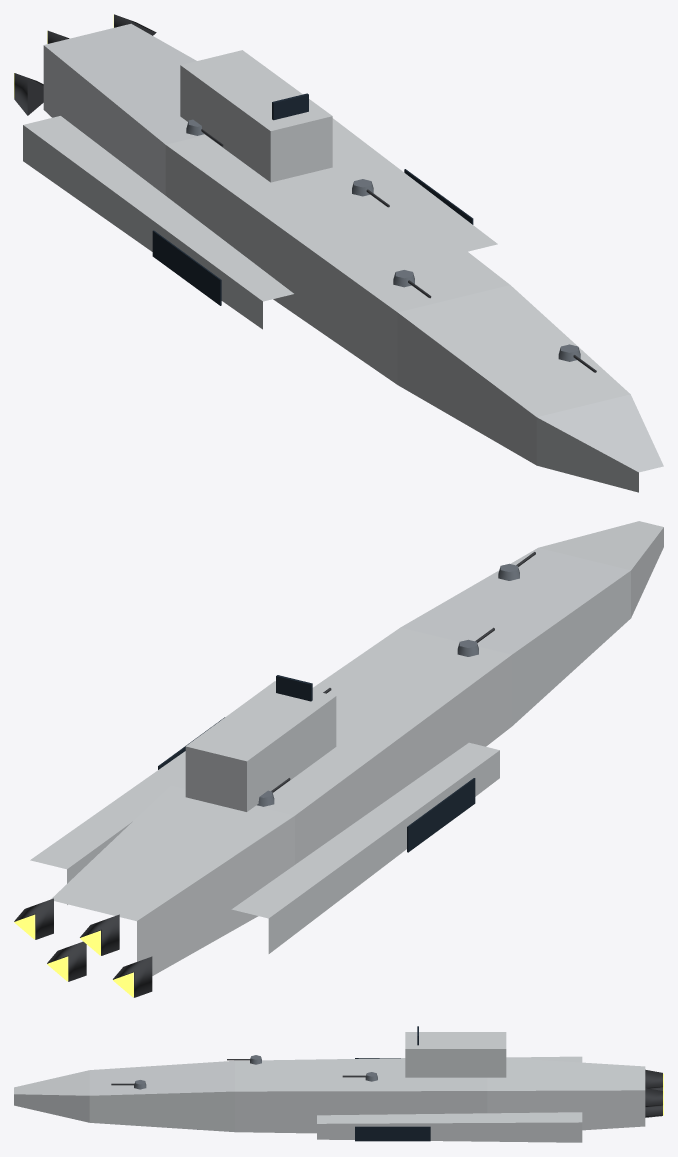
Rendered from space_ship_cruiser_mk2_lod2.glb.
3 views of the same model, one above another, from view 1: azimuth 30°, elevation 25°; view 2: azimuth 150°, elevation 25°; view 3: azimuth 270°, elevation 25° (orthographic). The views are drawn at different scales.
Visible parts, largest first — view 1: body, hangar_r, engine_0; view 2: body, hangar_r, engine_0, engine_1, engine_3, engine_2; view 3: body, hangar_l, engine_3, engine_1, engine_2.
Boxes of the visible parts, x1=… form: body: x1=23, y1=23, x2=663, y2=492; hangar_r: x1=152, y1=230, x2=221, y2=305; engine_0: x1=14, y1=73, x2=43, y2=115; body: x1=30, y1=521, x2=663, y2=975; hangar_r: x1=407, y1=778, x2=475, y2=852; engine_0: x1=113, y1=956, x2=152, y2=997; engine_1: x1=80, y1=914, x2=119, y2=955; engine_3: x1=14, y1=898, x2=53, y2=939; engine_2: x1=47, y1=941, x2=86, y2=981; body: x1=14, y1=1026, x2=645, y2=1142; hangar_l: x1=355, y1=1126, x2=430, y2=1141; engine_3: x1=645, y1=1088, x2=663, y2=1107; engine_1: x1=645, y1=1069, x2=663, y2=1088; engine_2: x1=645, y1=1105, x2=663, y2=1117.
Size of the model in its own units: 18.56 by 12.04 by 73.8.
